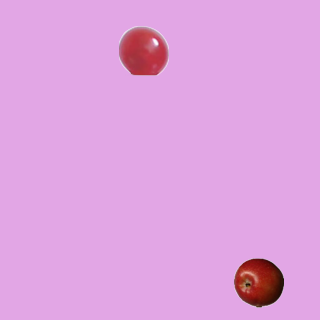Apple Braeburn: (233, 257, 283, 307)
Redcurrant: (118, 25, 168, 75)
